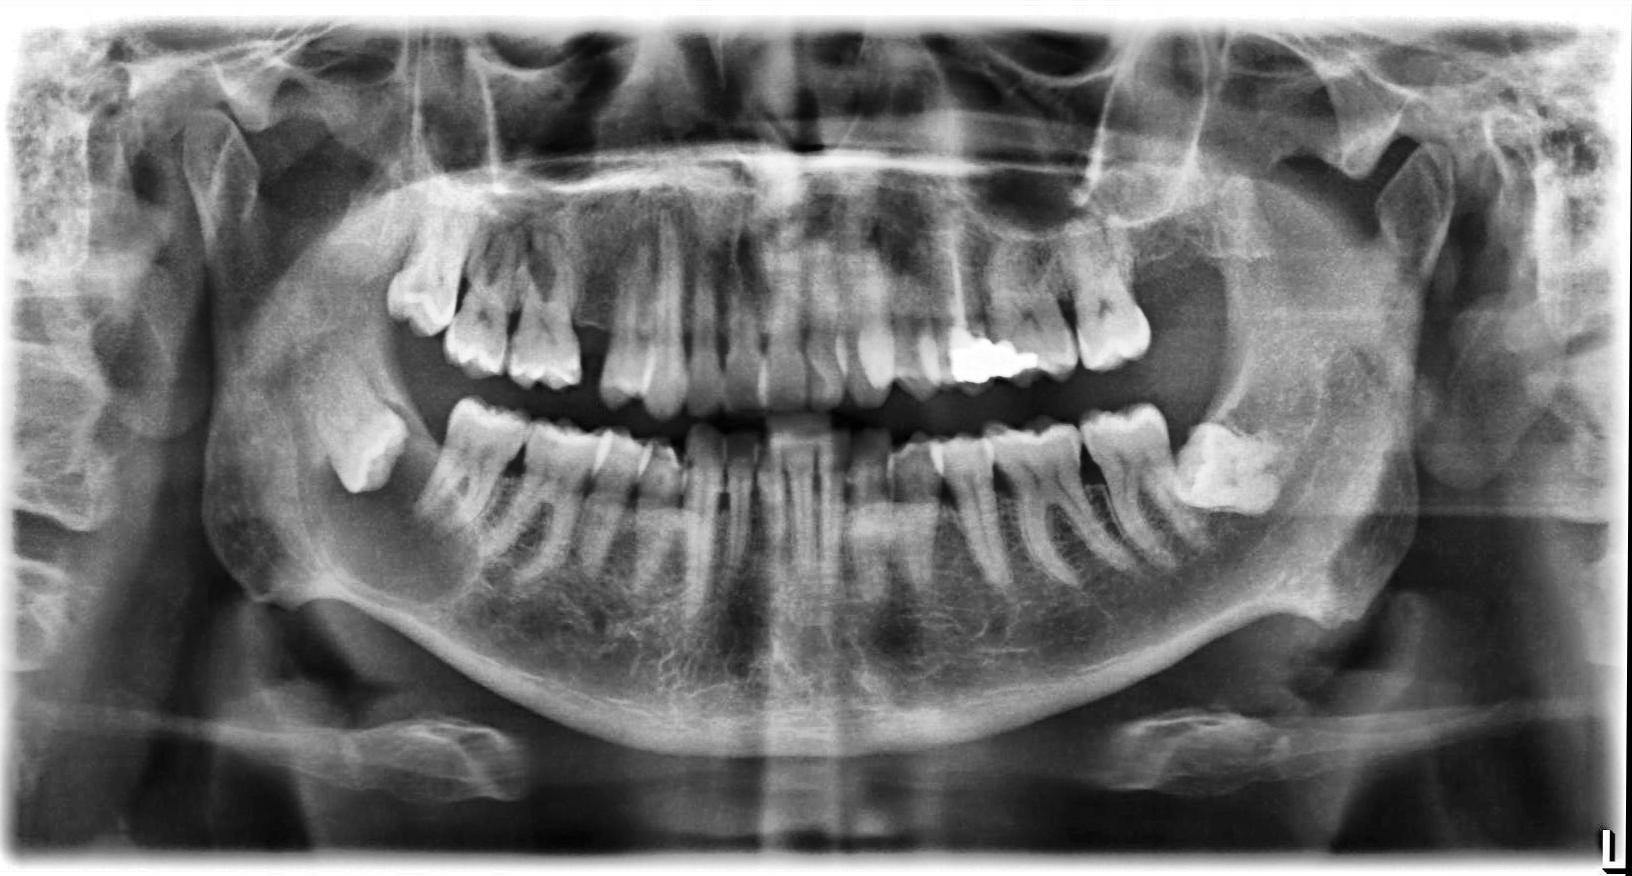dentigeroz: (302, 398, 486, 614)
